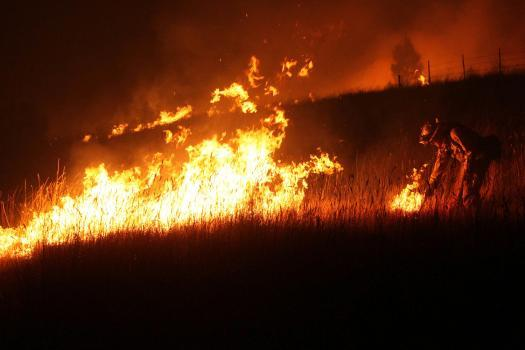fire: (21, 154, 327, 245), (205, 74, 279, 151)
